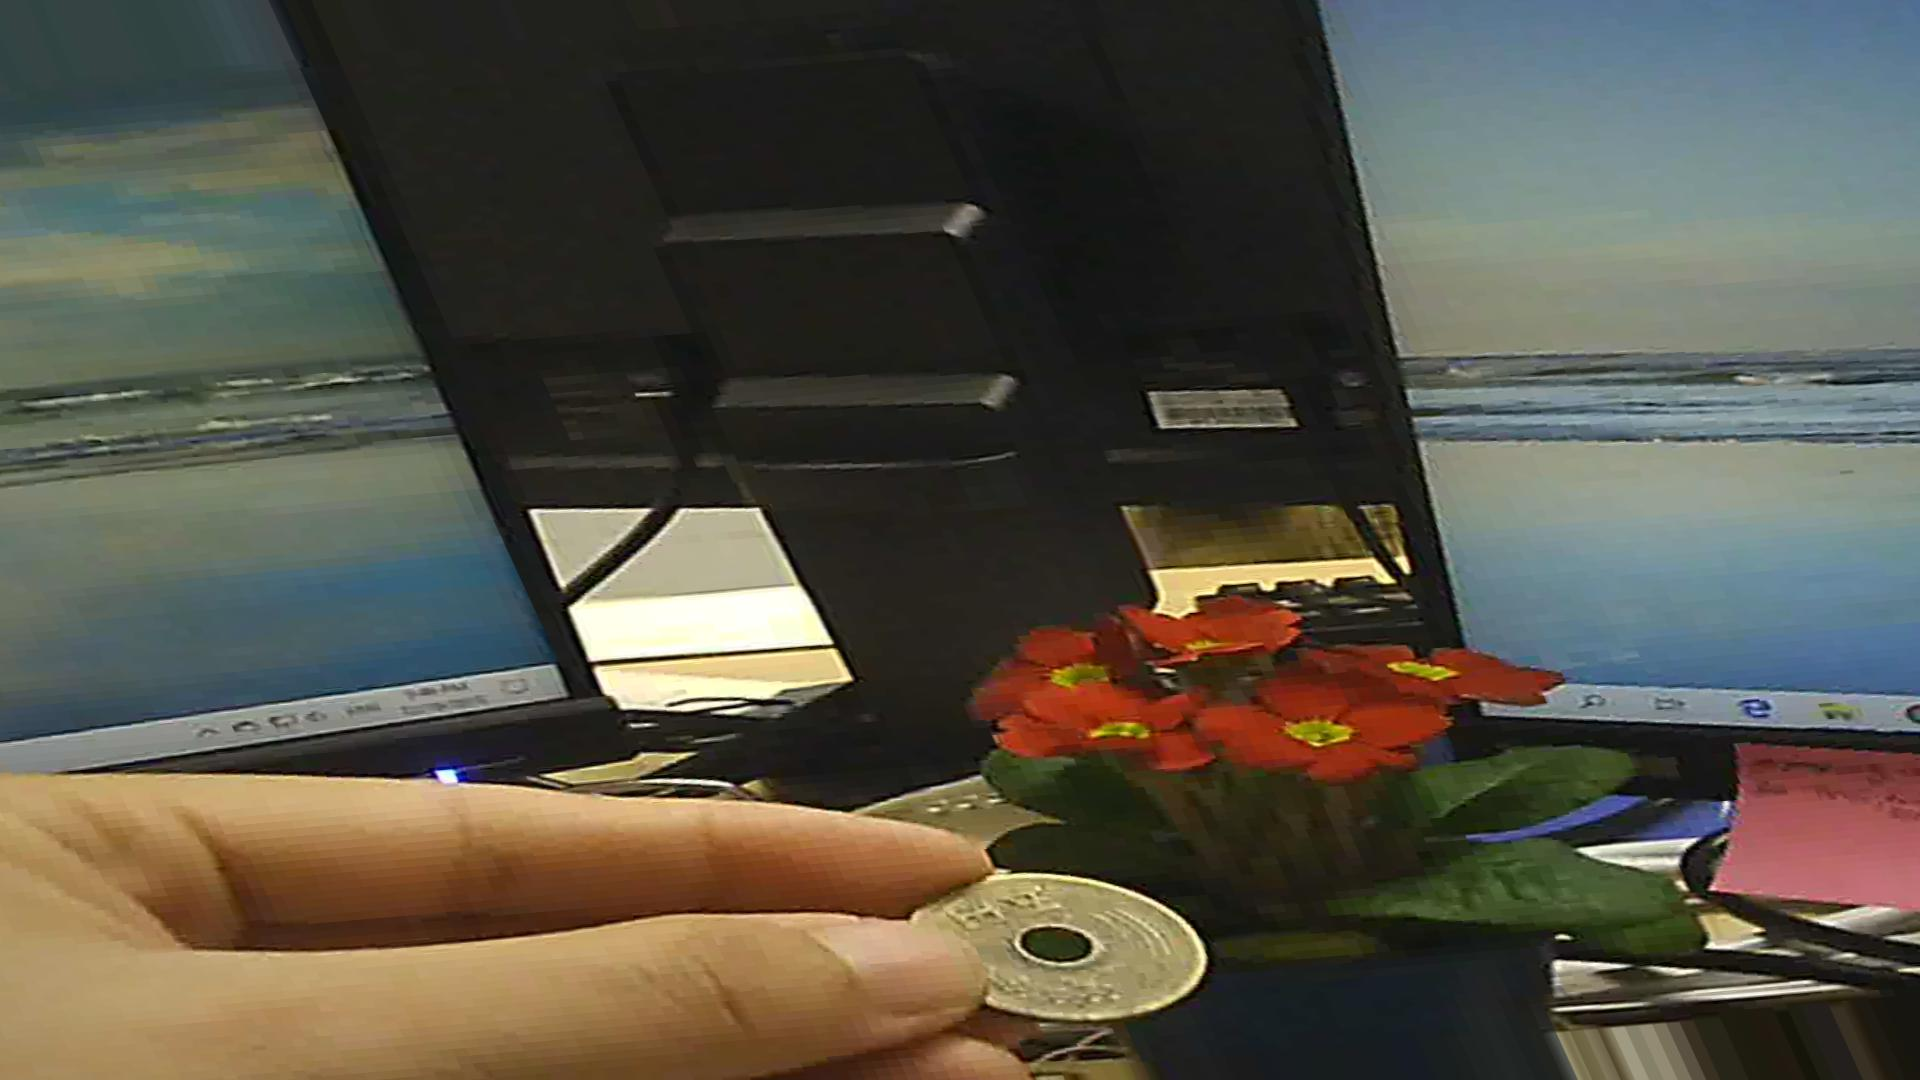5 Yen: (891, 856, 1211, 1015)
